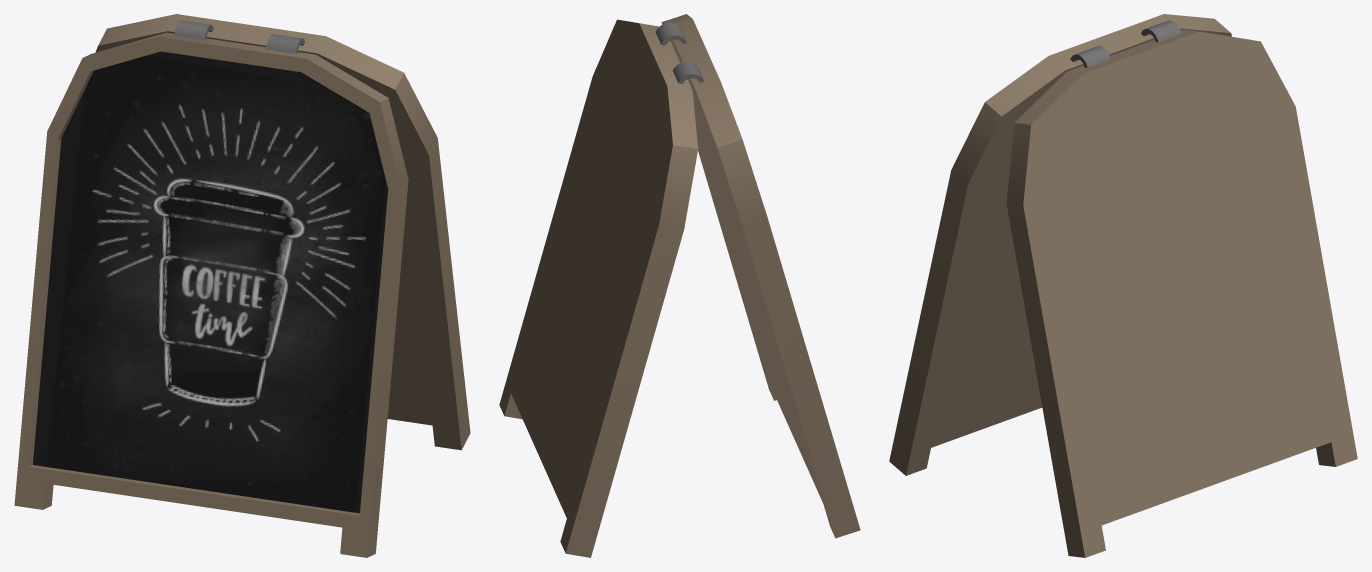
Rendered from Menu4.fbx.
The picture shows the model from 3 angles, left to right: view 1: azimuth 30°, elevation 25°; view 2: azimuth 150°, elevation 25°; view 3: azimuth 270°, elevation 25°; orthographic projection. The views are drawn at different scales.
Visible parts, largest first — view 1: polySurface1256; view 2: polySurface1256; view 3: polySurface1256.
Boxes of the visible parts, x1,y1,x2,y2 form: polySurface1256: [14, 14, 470, 557]; polySurface1256: [499, 14, 860, 557]; polySurface1256: [889, 14, 1357, 557].
Bounding box in the file's own units: 129 × 131 × 130.
